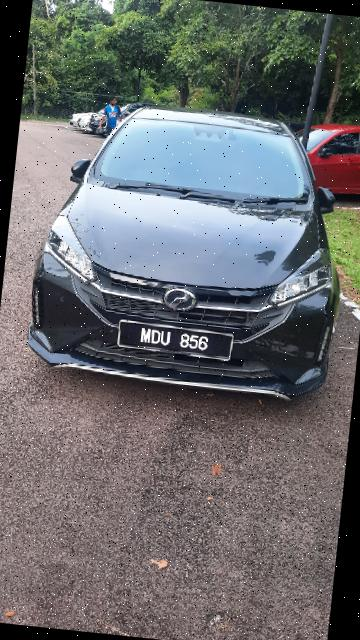License_Plate: (115, 317, 236, 365)
car: (21, 94, 360, 408)
